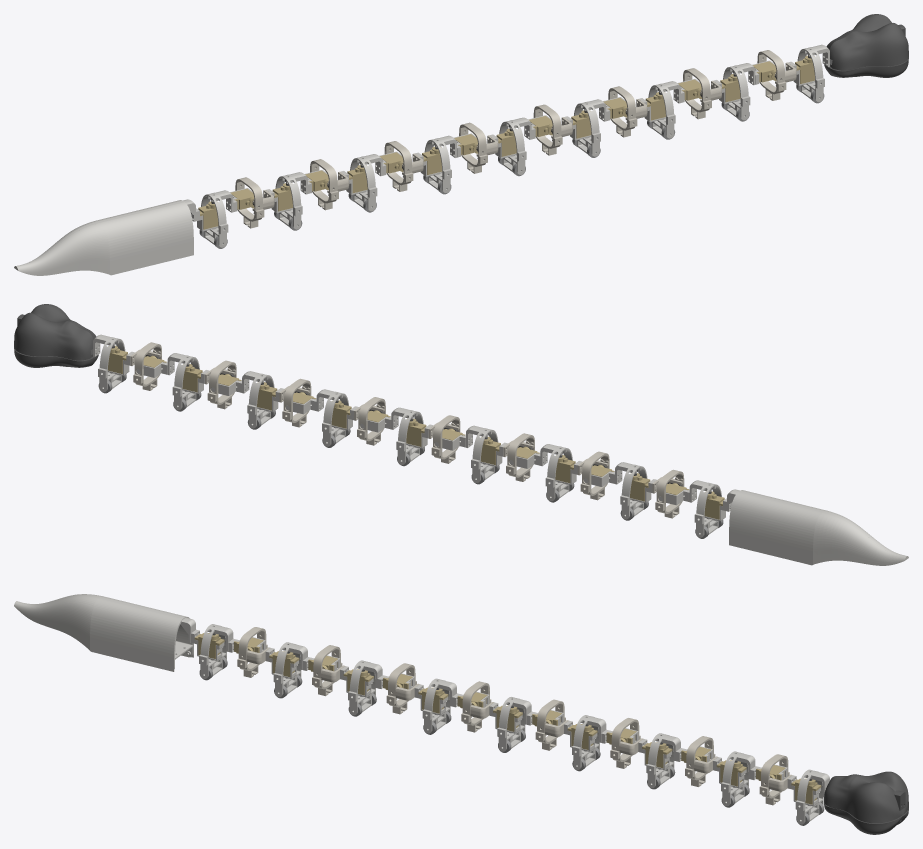
Rendered from snake_vh17_straight.glb.
3 views of the same model, one above another, from view 1: azimuth 30°, elevation 25°; view 2: azimuth 150°, elevation 25°; view 3: azimuth 330°, elevation 25° (orthographic).
Parts seen in each view (by area): view 1: tail, head, m01H_rib, m11H_rib, m15H_rib, m05H_rib, m07H_rib, m09H_rib, m03H_rib, m13H_rib, m08V_rib, m14V_rib (+7 smaller); view 2: tail, head, m08V_rib, m14V_rib, m04V_rib, m12V_rib, m00V_rib, m02V_rib, m16V_rib, m10V_rib, m06V_rib, m03H_rib (+7 smaller); view 3: tail, head, m01H_rib, m15H_rib, m11H_rib, m07H_rib, m05H_rib, m09H_rib, m03H_rib, m13H_rib, m08V_rib, m02V_rib (+8 smaller).
Part boxes in pixels (x1,y1,x2,y2): tail: (14, 200, 193, 275); head: (824, 14, 908, 77); m01H_rib: (235, 177, 274, 228); m11H_rib: (608, 86, 647, 137); m15H_rib: (757, 50, 796, 100); m05H_rib: (384, 141, 423, 191); m07H_rib: (459, 122, 498, 173); m09H_rib: (533, 104, 572, 155); m03H_rib: (310, 159, 349, 210); m13H_rib: (683, 68, 721, 119); m08V_rib: (499, 117, 531, 174); m14V_rib: (723, 63, 755, 120); tail: (729, 490, 908, 565); head: (14, 304, 98, 367); m08V_rib: (391, 407, 423, 464); m14V_rib: (167, 353, 199, 410); m04V_rib: (540, 444, 572, 501); m12V_rib: (242, 371, 274, 428); m00V_rib: (689, 480, 721, 537); m02V_rib: (615, 462, 647, 519); m16V_rib: (93, 334, 125, 391); m10V_rib: (316, 389, 348, 446); m06V_rib: (466, 425, 498, 482); m03H_rib: (577, 451, 609, 500); tail: (14, 594, 193, 671); head: (824, 771, 908, 834); m01H_rib: (237, 627, 270, 677); m15H_rib: (759, 754, 792, 805); m11H_rib: (610, 718, 643, 768); m07H_rib: (461, 681, 493, 732); m05H_rib: (386, 663, 419, 714); m09H_rib: (535, 699, 568, 750); m03H_rib: (312, 645, 344, 696); m13H_rib: (685, 736, 717, 786); m08V_rib: (497, 697, 531, 751); m02V_rib: (273, 642, 307, 697).
Bounding box in the file's own units: 1163 × 74.63 × 74.19.
